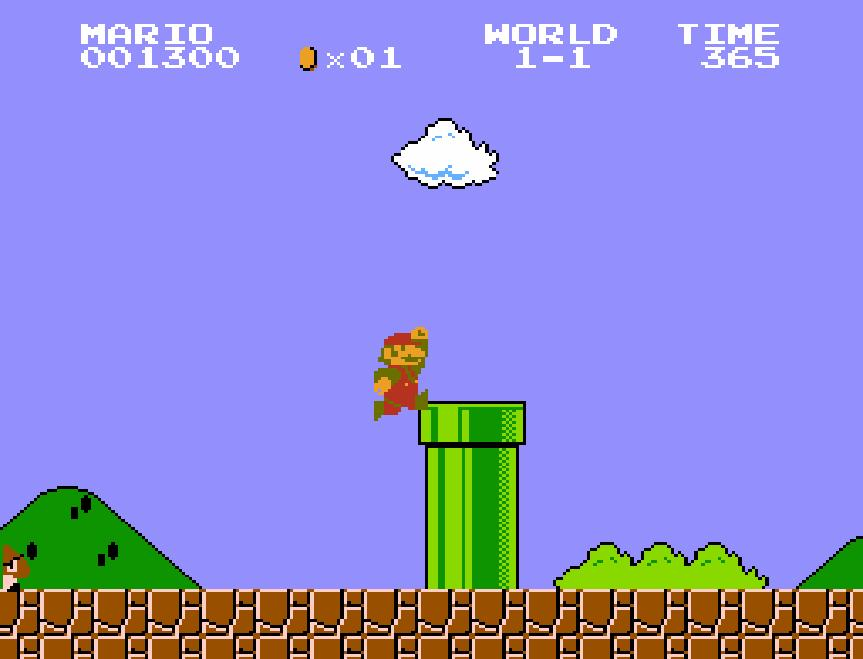big_mario: (372, 325, 430, 423)
